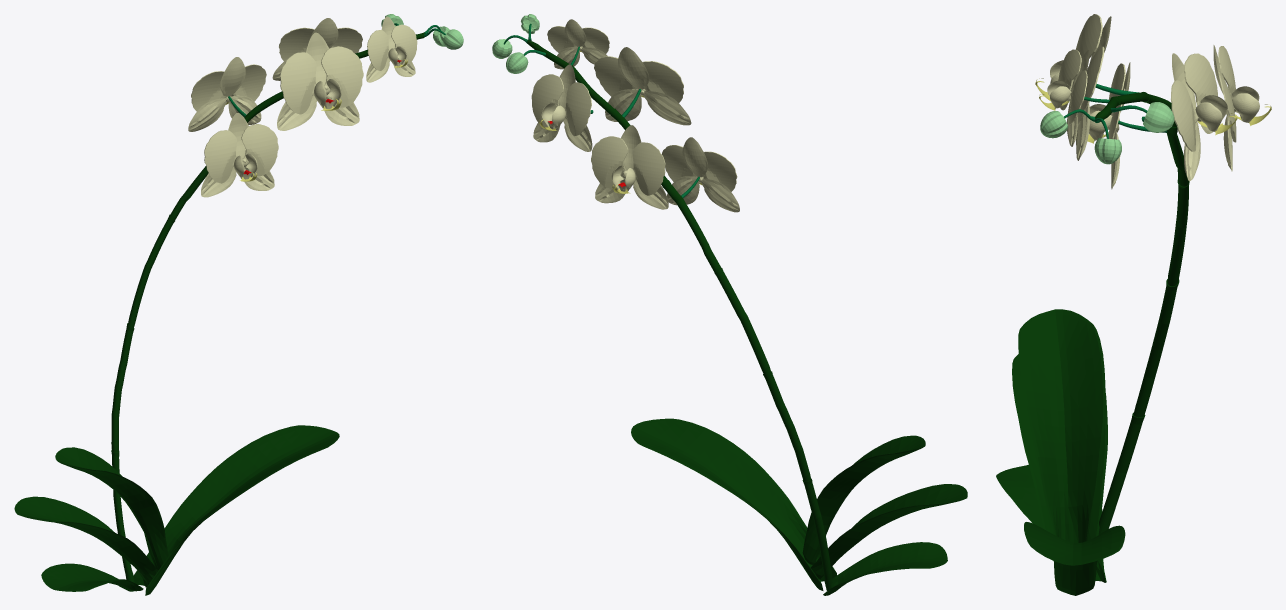
The model's file is orchid1.obj.
3 views of the same model, side by side, from view 1: azimuth 30°, elevation 25°; view 2: azimuth 150°, elevation 25°; view 3: azimuth 270°, elevation 25° (orthographic). The views are drawn at different scales.
Visible parts, largest first — view 1: Phalaeno66, Phalaeno69, Phalaeno65, Phalaeno67, Phalaeno68, Phalaeno28, Phalaeno25, Phalaeno16, Phalaeno13, Phalaeno51, Phalaeno63, Phalaeno48 (+6 smaller); view 2: Phalaeno66, Phalaeno69, Phalaeno65, Phalaeno67, Phalaeno68, Phalaeno51, Phalaeno48, Phalaeno63, Phalaeno28, Phalaeno60, Phalaeno25, Phalaeno27 (+6 smaller); view 3: Phalaeno65, Phalaeno69, Phalaeno66, Phalaeno67, Phalaeno68, Phalaeno60, Phalaeno63, Phalaeno28, Phalaenop1, Phalaeno25, Phalaenop0, Phalaenops (+9 smaller).
Boxes of the visible parts, x1,y1,x2,y2 form: Phalaeno66: (133, 425, 339, 595); Phalaeno69: (111, 34, 423, 591); Phalaeno65: (55, 447, 168, 570); Phalaeno67: (14, 496, 157, 587); Phalaeno68: (41, 563, 143, 591); Phalaeno28: (280, 52, 316, 114); Phalaeno25: (321, 46, 363, 107); Phalaeno16: (204, 130, 236, 183); Phalaeno13: (241, 124, 278, 175); Phalaeno51: (191, 71, 224, 111); Phalaeno63: (279, 27, 314, 60); Phalaeno48: (231, 64, 266, 101); Phalaeno66: (631, 418, 836, 590); Phalaeno69: (529, 42, 833, 590); Phalaeno65: (802, 435, 925, 565); Phalaeno67: (810, 484, 967, 581); Phalaeno68: (823, 542, 947, 595); Phalaeno51: (632, 142, 665, 195); Phalaeno48: (591, 136, 628, 188); Phalaeno63: (565, 82, 591, 136); Phalaeno28: (642, 61, 683, 102); Phalaeno60: (531, 74, 563, 126); Phalaeno25: (594, 56, 637, 96); Phalaeno27: (643, 90, 691, 125); Phalaeno65: (1018, 309, 1105, 542); Phalaeno69: (1095, 92, 1188, 562); Phalaeno66: (1024, 522, 1125, 595); Phalaeno67: (1012, 354, 1107, 540); Phalaeno68: (996, 465, 1106, 582); Phalaeno60: (1170, 80, 1198, 151); Phalaeno63: (1184, 53, 1217, 105); Phalaeno28: (1075, 14, 1102, 58); Phalaenop1: (1143, 102, 1174, 132); Phalaeno25: (1077, 46, 1104, 126); Phalaenop0: (1094, 138, 1121, 164); Phalaenops: (1040, 111, 1068, 138).
Bounding box in the file's own units: 26.94 × 28.93 × 10.21.
